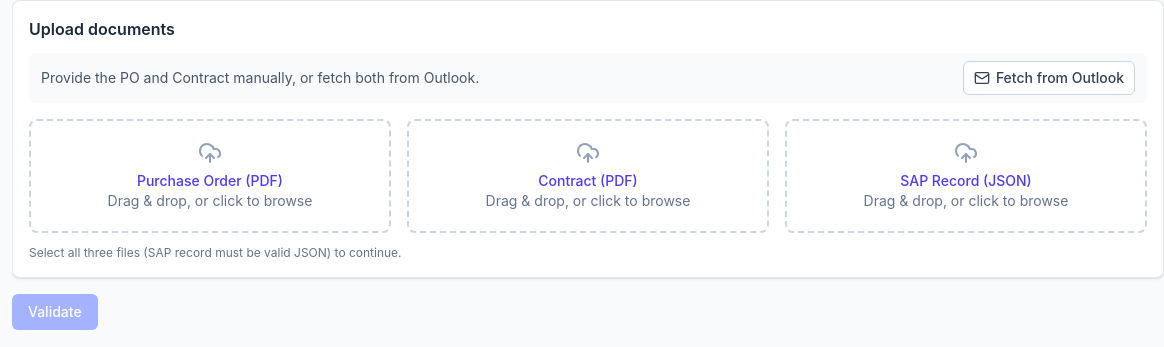
Test case: UploadForm › populates the PO and Contract file slots when Fetch from Outlook succeeds
This screenshot has width=1164, height=347.
Click the button "Fetch from Outlook". click: [1049, 78]
box: [963,61,1135,95]
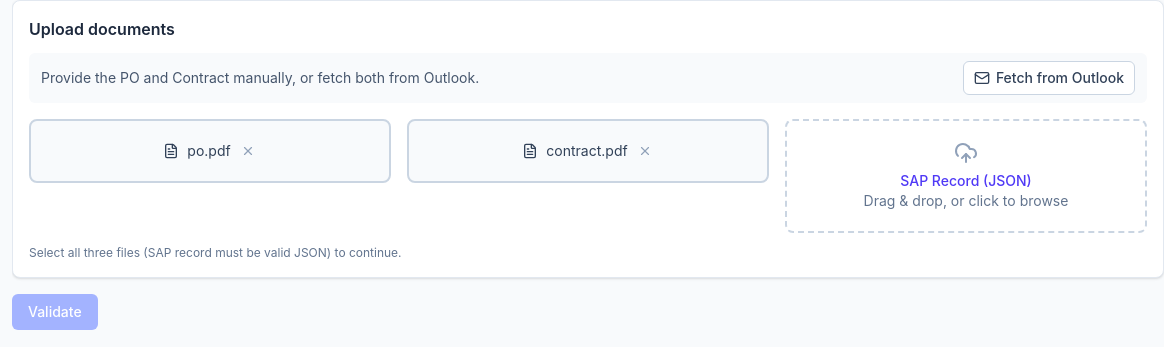
Check: the text "po.pdf" is shown, box [187,141,231,161]
Check: the text "contract.pdf" is shown, box [546,141,628,161]
